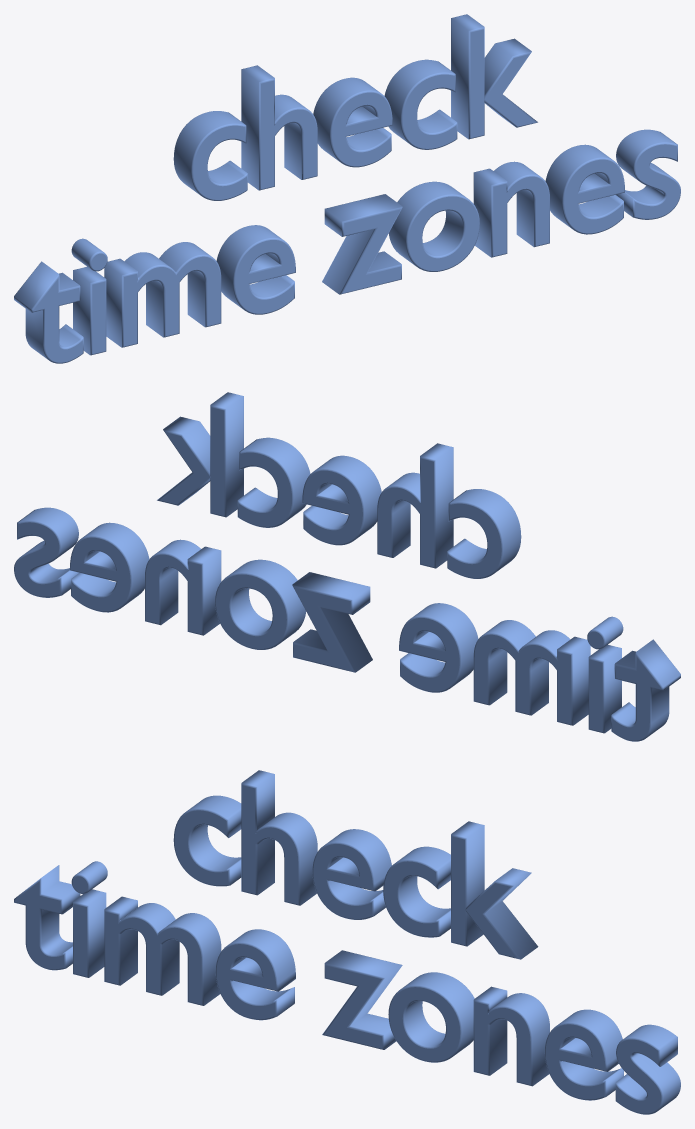
Rendered from map2.glb.
3 views of the same model, one above another, from view 1: azimuth 30°, elevation 25°; view 2: azimuth 150°, elevation 25°; view 3: azimuth 330°, elevation 25° (orthographic).
Parts seen in each view (by area): view 1: Text; view 2: Text; view 3: Text.
Part boxes in pixels (<box>): Text: <box>14,14,680,363</box>; Text: <box>14,392,680,741</box>; Text: <box>14,770,680,1114</box>.
Bounding box in the file's own units: 4.39 × 1.51 × 0.22.
